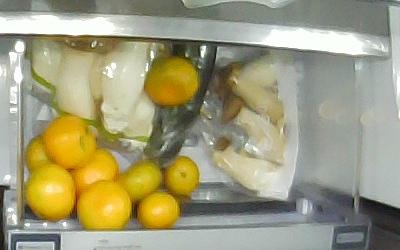tangerine: (24, 162, 75, 220), (42, 114, 96, 168), (143, 54, 198, 106), (75, 179, 132, 229), (67, 145, 118, 192), (114, 158, 163, 200), (136, 189, 179, 228), (162, 155, 200, 195), (24, 132, 57, 174)
